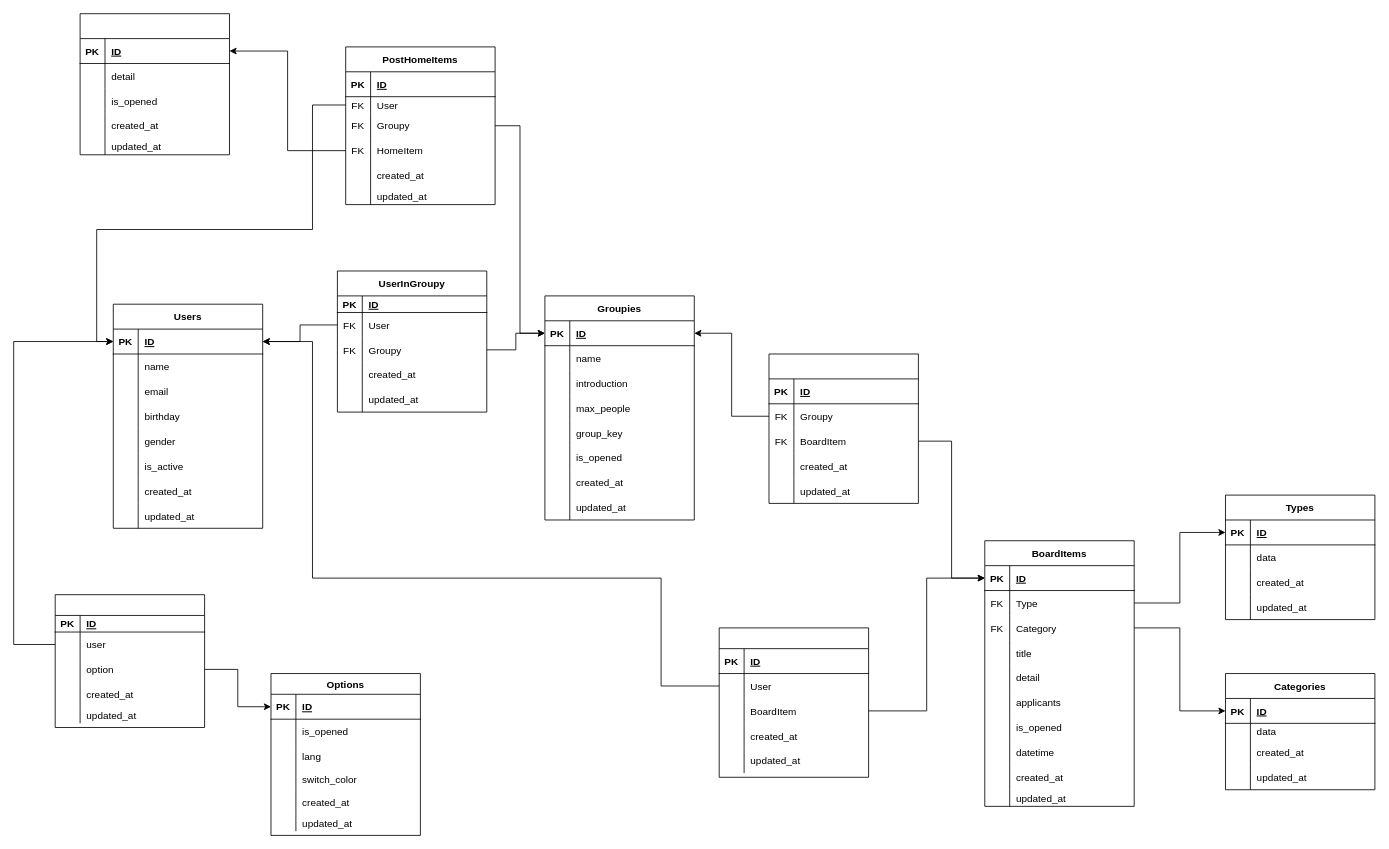
The diagram is 1389 pixels wide and 849 high, and some of its shapes have lost their labels. Here are the shapes that lost their labels. From the top down, the box of each, then its label:
(79, 13, 229, 155): HomeItems
(768, 353, 918, 503): Groupy_BoardItems
(54, 594, 205, 727): UserOptions
(718, 627, 869, 777): User_Like_BoardItems
